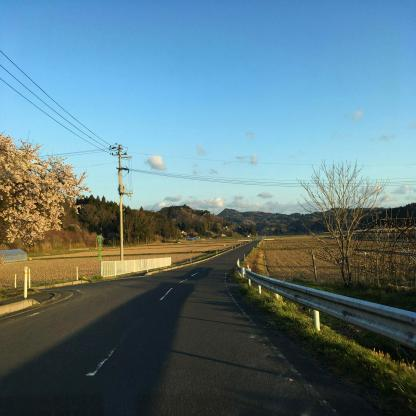Someiyoshino: (0, 116, 94, 258)
